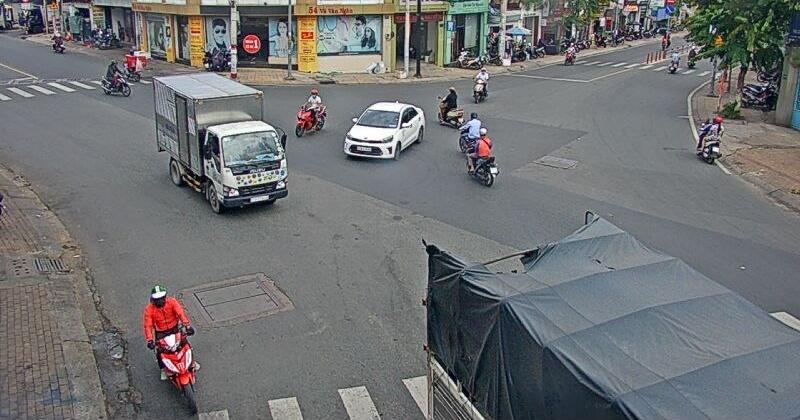xe hoi: (343, 101, 425, 160)
xe may: (142, 285, 197, 415), (467, 127, 498, 188), (294, 90, 326, 137), (695, 117, 724, 165), (437, 86, 464, 127), (472, 67, 488, 102)
xe tai: (151, 73, 288, 213)
